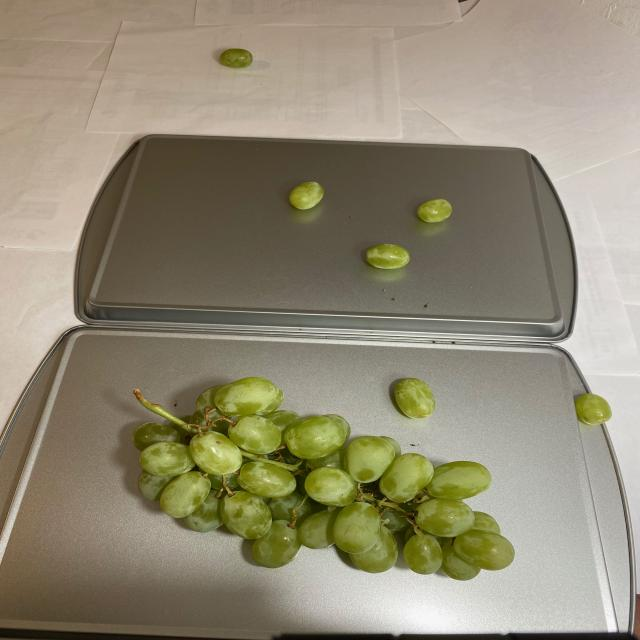Grapes: (135, 374, 516, 581), (282, 179, 449, 276)
